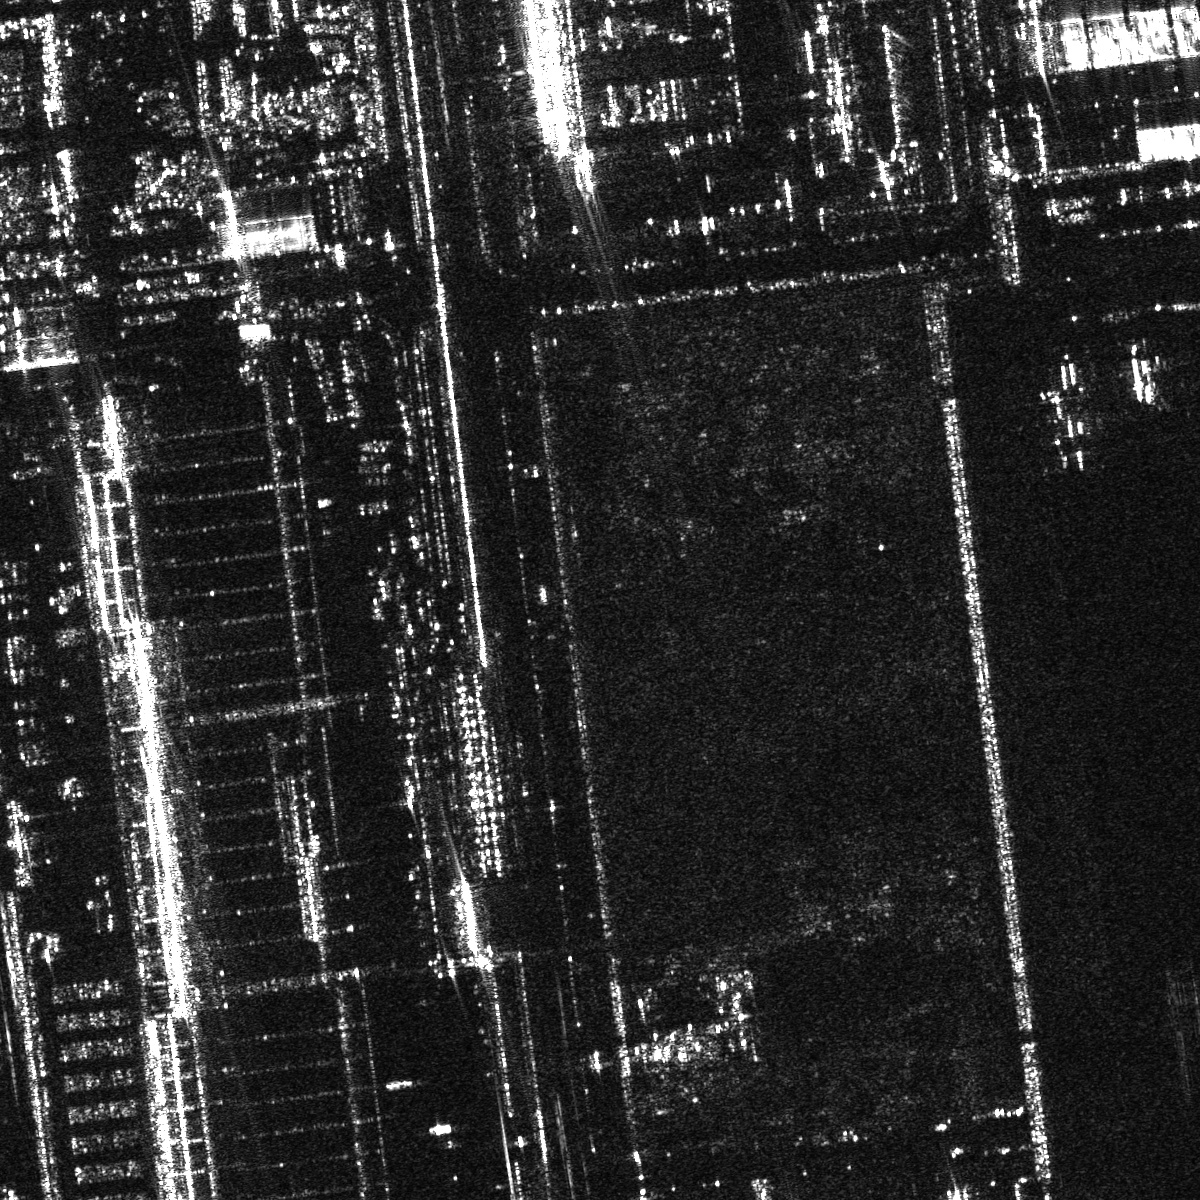Boeing787: (1114, 342, 1173, 405)
other: (1018, 377, 1095, 471)
